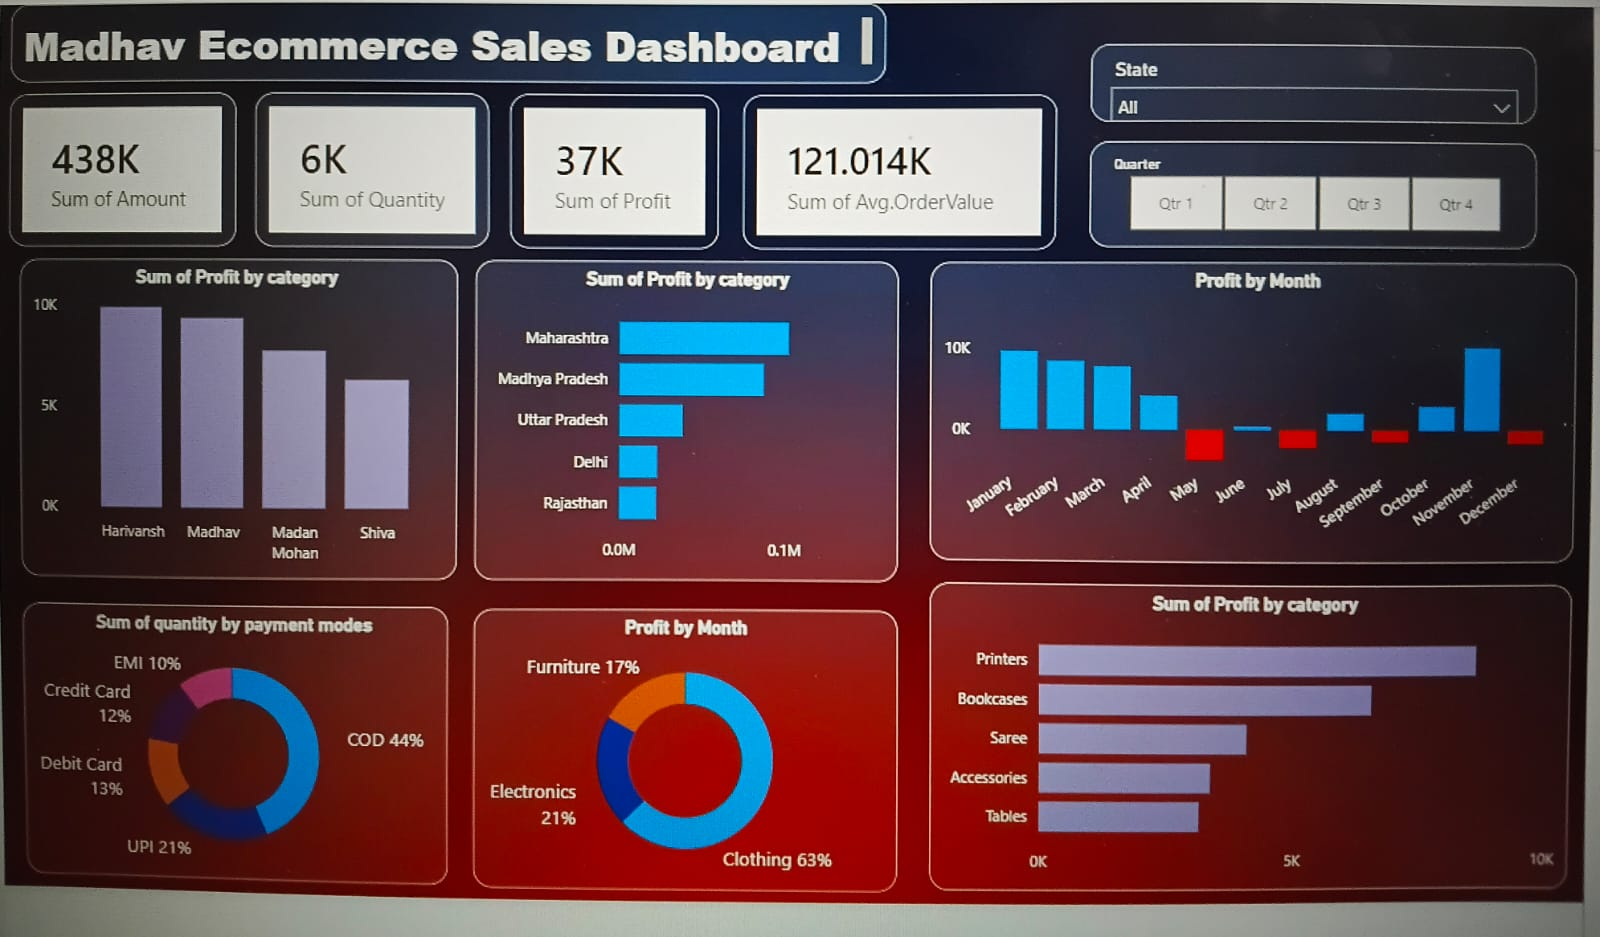

What the dashboard file says about the page in this screenshot:
{"tool":"powerbi","page":{"name":"Page 1","canvas":[1280,720],"ordinal":0},"visuals":[{"type":"textbox","box":[9.6,0,706.7,63.1],"z":0},{"type":"donutChart","title":"Sum of quantity by payment modes","fields":{"Y":["Details csv file.Quantity"],"Category":["Details csv file.PaymentMode"]},"box":[19.2,484.4,348.5,223.7],"z":1000},{"type":"columnChart","title":" Profit by Month","fields":{"Y":["Details csv file.Profit"],"Category":["Orders csv file.Order Date.Variation.Date Hierarchy.Month"]},"box":[753.3,205.8,513.2,238.8],"z":2000},{"type":"barChart","title":"Sum of Profit by category","fields":{"Category":["Details csv file.Sub-Category"],"Y":["Details csv file.Profit"]},"box":[753.3,462.4,513.2,245.6],"z":3000},{"type":"donutChart","title":" Profit by Month","fields":{"Category":["Details csv file.Category"],"Y":["Details csv file.Quantity"]},"box":[388.3,485.8,338.9,223.7],"z":4000},{"type":"cardVisual","title":"Sum of quantity by payment modes","fields":{"Data":["Details csv file.Amount"]},"box":[9.6,72.7,188,123.5],"z":5000},{"type":"cardVisual","title":"Sum of quantity by payment modes","fields":{"Data":["Details csv file.Profit"]},"box":[415.8,72.7,167.4,123.5],"z":6000},{"type":"cardVisual","title":"Sum of quantity by payment modes","fields":{"Data":["Details csv file.Quantity"]},"box":[212.7,72.7,186.6,123.5],"z":7000},{"type":"cardVisual","title":"Sum of quantity by payment modes","fields":{"Data":["Details csv file.Avg.OrderValue"]},"box":[602.4,72.7,249.7,123.5],"z":7001},{"type":"barChart","title":"Sum of Profit by category","fields":{"Category":["Orders csv file.State"],"Y":["Details csv file.Amount"]},"box":[388.3,205.8,338.9,256.6],"z":7002},{"type":"columnChart","title":"Sum of Profit by category","fields":{"Category":["Orders csv file.CustomerName"],"Y":["Details csv file.Amount"]},"box":[19.2,205.8,355.4,256.6],"z":7003},{"type":"slicer","title":"Sum of Profit by category","fields":{"Values":["Orders csv file.Order Date.Variation.Date Hierarchy.Quarter"]},"box":[878.2,109.8,355.4,83.7],"z":7004},{"type":"slicer","title":"Sum of Profit by category","fields":{"Values":["Orders csv file.State"]},"box":[878.2,32.9,355.4,61.7],"z":7005}]}

Visuals, with their boxes in screenshot pixels (x1, y1, x2, y2):
textbox: box(0, 0, 882, 72)
"Sum of quantity by payment modes" donutChart: box(0, 611, 437, 897)
" Profit by Month" columnChart: box(929, 255, 1585, 560)
"Sum of Profit by category" barChart: box(929, 583, 1585, 897)
" Profit by Month" donutChart: box(463, 613, 896, 898)
"Sum of quantity by payment modes" cardVisual: box(0, 85, 219, 242)
"Sum of quantity by payment modes" cardVisual: box(498, 85, 712, 242)
"Sum of quantity by payment modes" cardVisual: box(239, 85, 477, 242)
"Sum of quantity by payment modes" cardVisual: box(737, 85, 1056, 242)
"Sum of Profit by category" barChart: box(463, 255, 896, 583)
"Sum of Profit by category" columnChart: box(0, 255, 445, 583)
"Sum of Profit by category" slicer: box(1089, 132, 1543, 239)
"Sum of Profit by category" slicer: box(1089, 34, 1543, 113)
